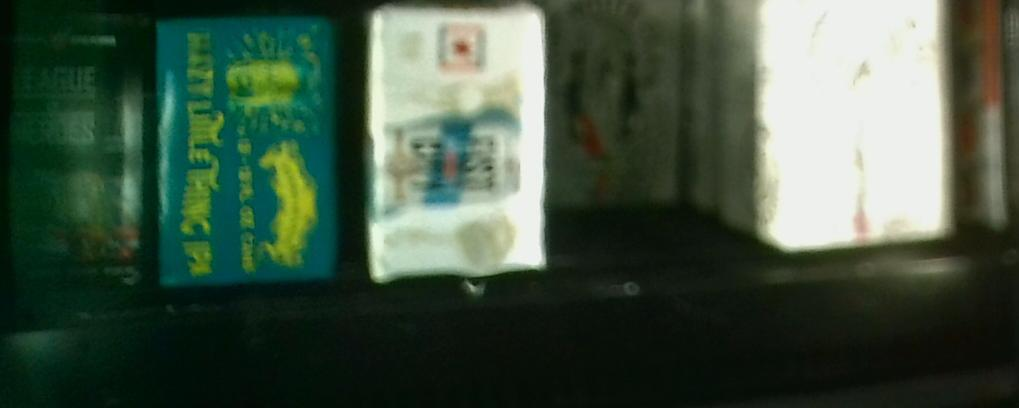bottle: (365, 3, 550, 285), (155, 13, 340, 285), (1, 10, 152, 294)
